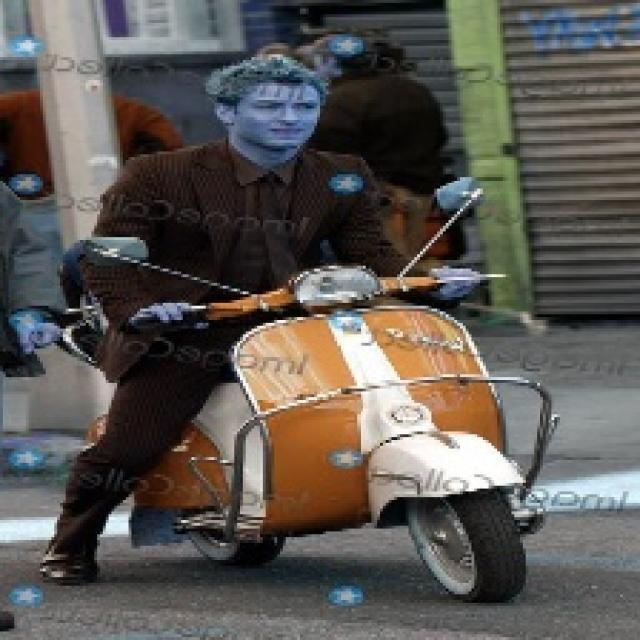bike: (195, 277, 560, 618)
